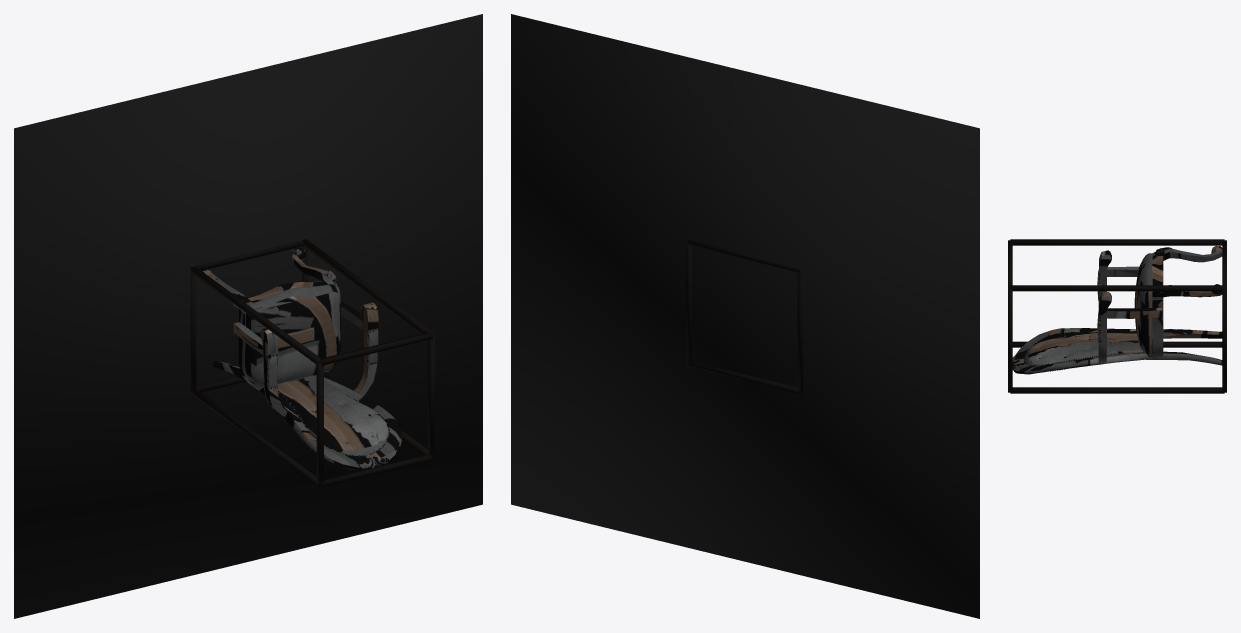
3 views of the same model, side by side, from view 1: azimuth 30°, elevation 25°; view 2: azimuth 150°, elevation 25°; view 3: azimuth 270°, elevation 25° (orthographic). The views are drawn at different scales.
Size of the model in its own units: 2 by 2 by 0.9618.
